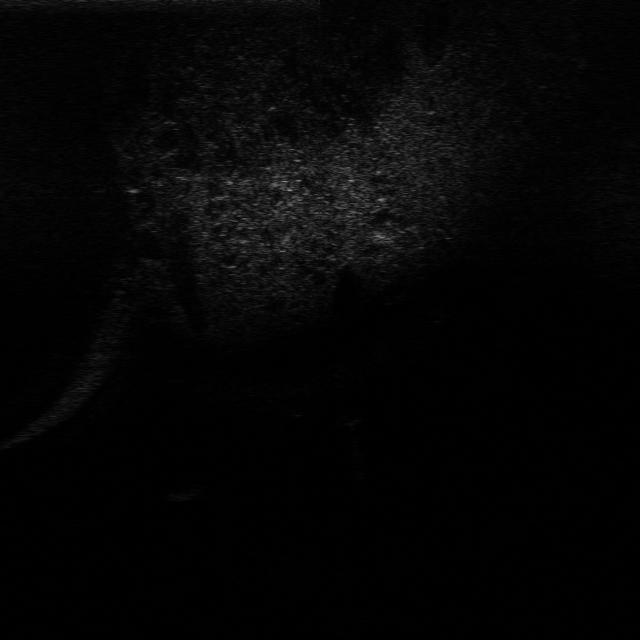cube: (328, 398, 373, 432)
cylinder: (159, 472, 207, 504)
